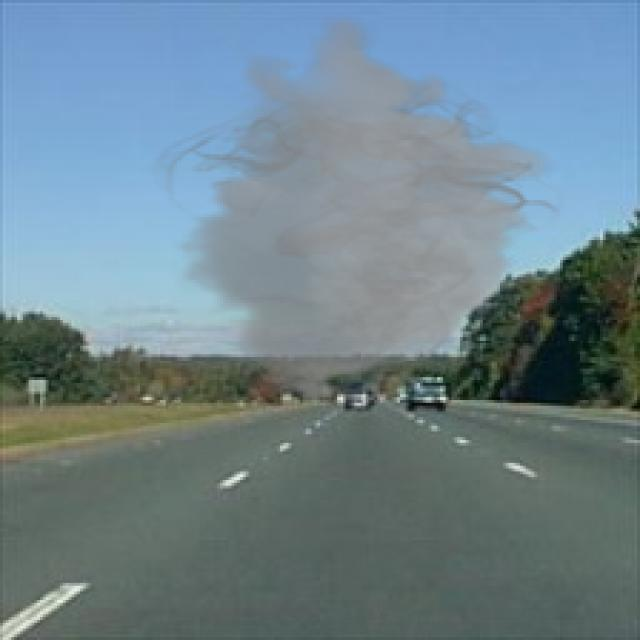smoke: (145, 14, 566, 406)
